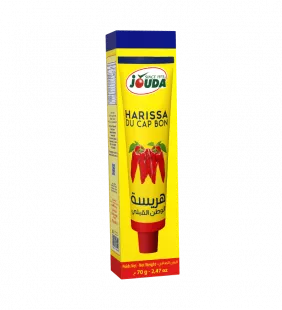JOUDA: (100, 21, 188, 284)
